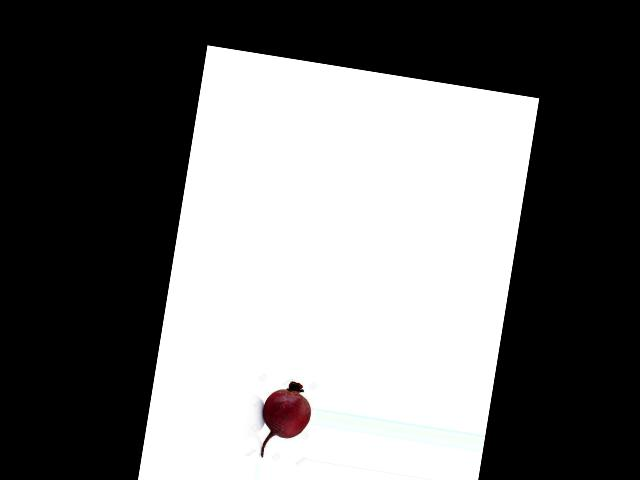beet: (255, 378, 314, 463)
